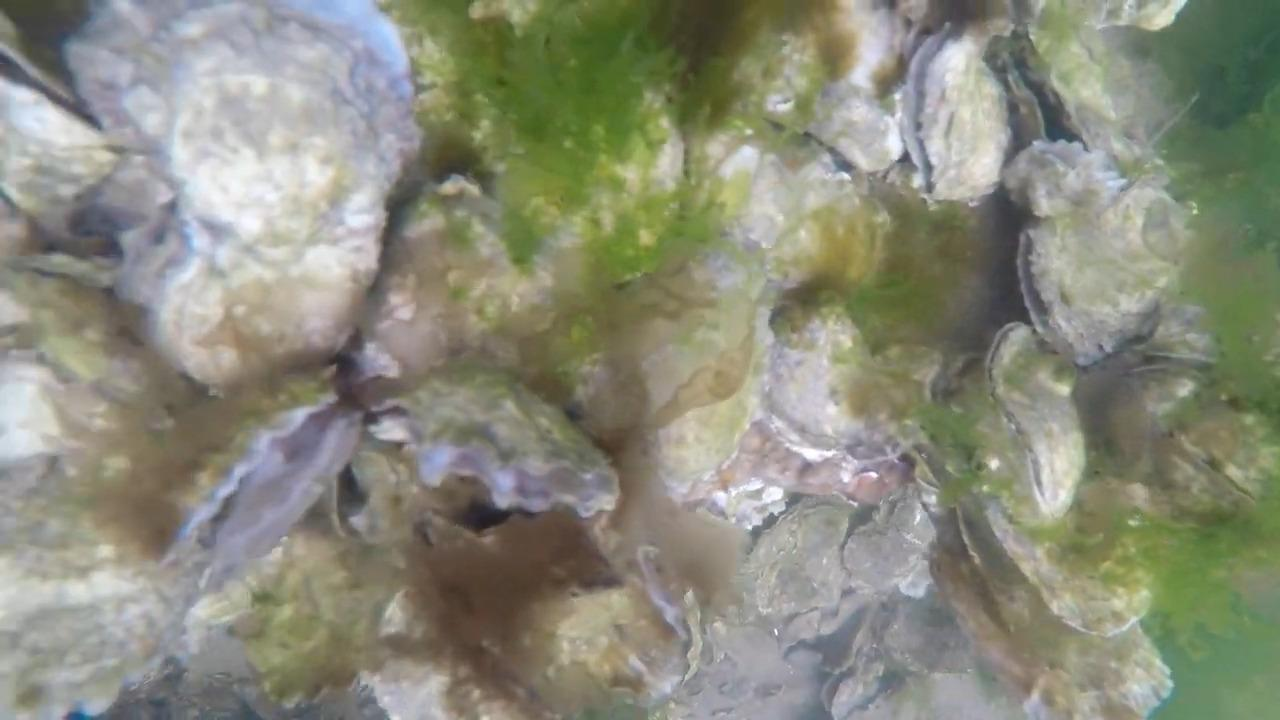Oyster: (56, 3, 419, 400), (717, 290, 941, 513), (166, 392, 369, 600), (374, 360, 615, 525), (967, 479, 1159, 648), (1014, 170, 1181, 362), (3, 38, 141, 263), (1007, 194, 1194, 357), (715, 135, 893, 291), (0, 558, 168, 719), (1022, 6, 1182, 171), (1118, 372, 1276, 526), (0, 257, 150, 409), (976, 321, 1084, 525), (900, 25, 1016, 206), (896, 38, 1020, 204), (648, 613, 839, 720), (525, 581, 677, 712), (738, 495, 858, 634), (832, 486, 938, 616), (783, 5, 907, 114), (798, 84, 906, 182), (986, 29, 1060, 167), (999, 137, 1115, 224), (1001, 142, 1123, 222), (822, 624, 904, 720), (1134, 193, 1194, 263), (1093, 0, 1196, 34)
